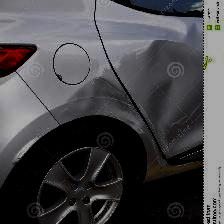door_dent: (44, 30, 199, 180)
